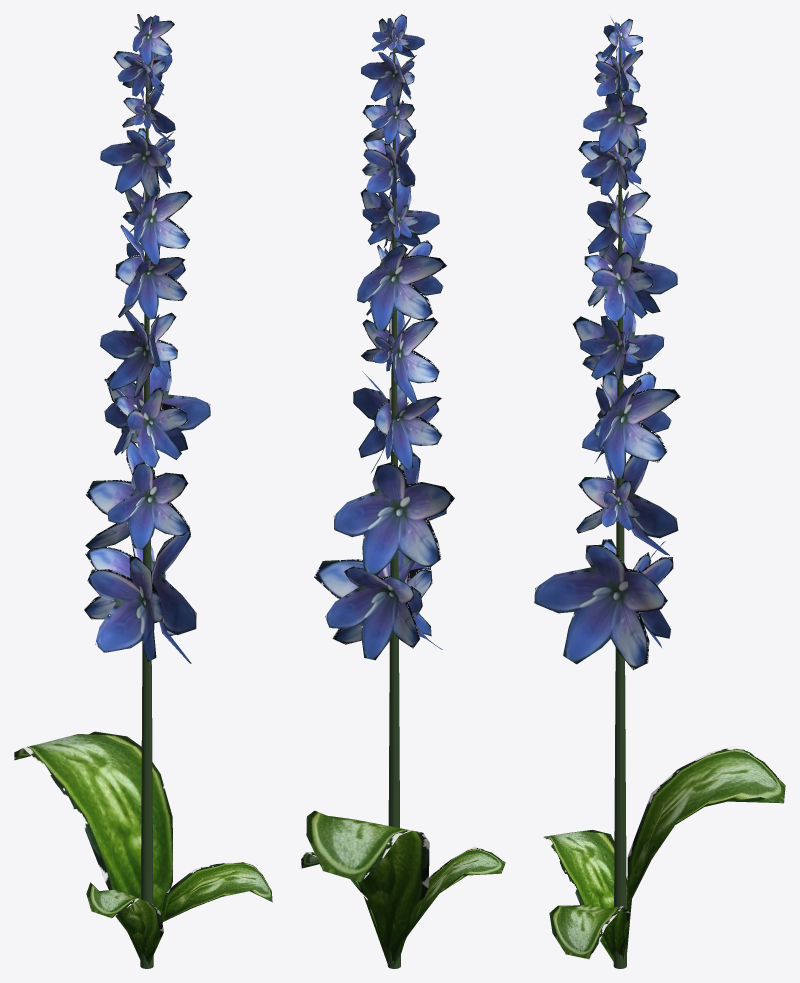
The model's file is pond_reed.glb.
The picture shows the model from 3 angles, left to right: view 1: azimuth 30°, elevation 25°; view 2: azimuth 150°, elevation 25°; view 3: azimuth 270°, elevation 25°; orthographic projection.
Parts seen in each view (by area): view 1: reed_01_Plants_0; view 2: reed_01_Plants_0; view 3: reed_01_Plants_0.
Boxes of the visible parts, box(x1,y1,x2,y2) form: reed_01_Plants_0: box(14, 14, 272, 968); reed_01_Plants_0: box(301, 14, 505, 968); reed_01_Plants_0: box(534, 17, 785, 968).
Size of the model in its own units: 0.2285 by 1.09 by 0.2617.
Materials: 1 (1 with a texture image).
